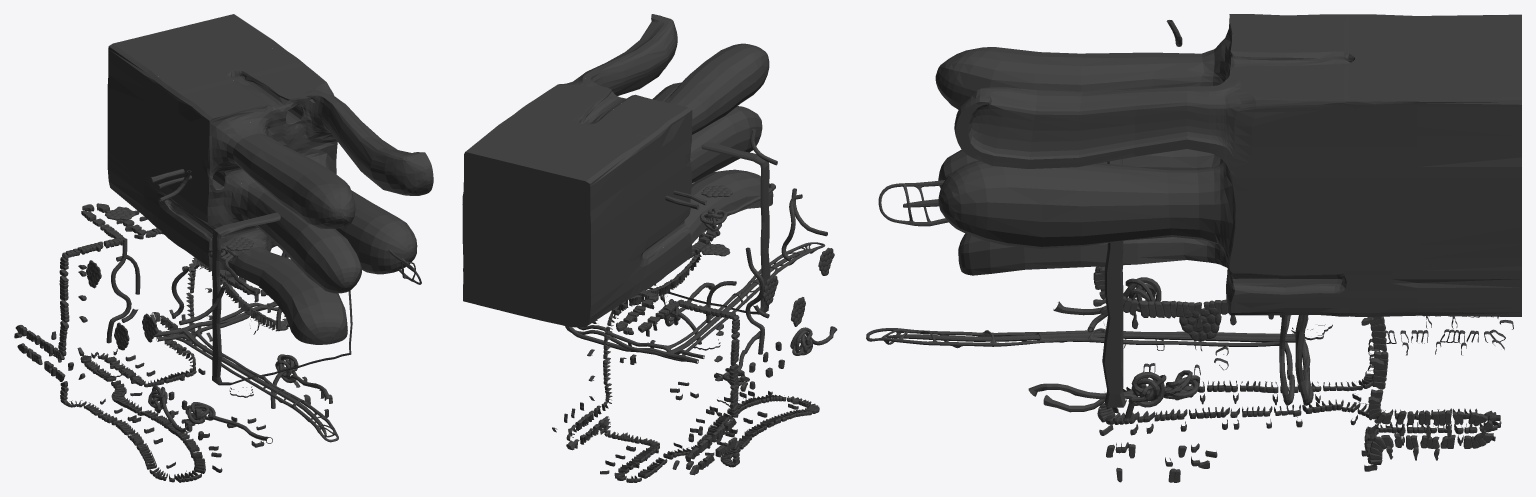
Rendered from sharedassets79.glb.
3 views of the same model, side by side, from view 1: azimuth 30°, elevation 25°; view 2: azimuth 150°, elevation 25°; view 3: azimuth 270°, elevation 25° (orthographic). The views are drawn at different scales.
Visible parts, largest first — view 1: 0004_Intestinal villi__302744, 0002_Mucosa__302742, 0003_Submucosa__302743, 0013_Absorptive cells__302753, 0017_Duodenal glands__302760, 0005_Muscularis mucosae__302745, 0001_Intestinal glands _crypts___302741, 0011_Goblet cells__302755, 0016_Mucosa-associated lymphoid tissue _MALT_, 0006_Capillaries__302747, 0009_Arteries__302750, 0000_Lamina propria__302740 (+5 smaller); view 2: 0003_Submucosa__302743, 0002_Mucosa__302742, 0004_Intestinal villi__302744, 0013_Absorptive cells__302753, 0017_Duodenal glands__302760, 0005_Muscularis mucosae__302745, 0011_Goblet cells__302755, 0016_Mucosa-associated lymphoid tissue _MALT_, 0006_Capillaries__302747, 0001_Intestinal glands _crypts___302741, 0000_Lamina propria__302740, 0009_Arteries__302750 (+6 smaller); view 3: 0002_Mucosa__302742, 0004_Intestinal villi__302744, 0003_Submucosa__302743, 0000_Lamina propria__302740, 0013_Absorptive cells__302753, 0006_Capillaries__302747, 0017_Duodenal glands__302760, 0001_Intestinal glands _crypts___302741, 0005_Muscularis mucosae__302745, 0011_Goblet cells__302755, 0014_Lacteal__302758, 0012_Enteroendocrine cells__302754 (+3 smaller).
Boxes of the visible parts, <box> form: 0004_Intestinal villi__302744: <box>220,95,433,344</box>; 0002_Mucosa__302742: <box>153,46,337,269</box>; 0003_Submucosa__302743: <box>107,14,280,224</box>; 0013_Absorptive cells__302753: <box>14,203,289,482</box>; 0017_Duodenal glands__302760: <box>148,245,331,443</box>; 0005_Muscularis mucosae__302745: <box>212,212,352,385</box>; 0001_Intestinal glands _crypts___302741: <box>164,70,302,239</box>; 0011_Goblet cells__302755: <box>34,204,270,478</box>; 0016_Mucosa-associated lymphoid tissue _MALT_: <box>86,206,259,397</box>; 0006_Capillaries__302747: <box>176,249,421,442</box>; 0009_Arteries__302750: <box>106,238,289,408</box>; 0000_Lamina propria__302740: <box>319,93,424,158</box>; 0003_Submucosa__302743: <box>462,118,636,327</box>; 0002_Mucosa__302742: <box>508,78,692,295</box>; 0004_Intestinal villi__302744: <box>590,14,773,243</box>; 0013_Absorptive cells__302753: <box>566,225,819,482</box>; 0017_Duodenal glands__302760: <box>662,183,837,385</box>; 0005_Muscularis mucosae__302745: <box>649,142,770,314</box>; 0011_Goblet cells__302755: <box>552,284,801,474</box>; 0016_Mucosa-associated lymphoid tissue _MALT_: <box>614,185,834,406</box>; 0006_Capillaries__302747: <box>670,242,825,355</box>; 0001_Intestinal glands _crypts___302741: <box>577,91,688,259</box>; 0000_Lamina propria__302740: <box>574,14,672,80</box>; 0009_Arteries__302750: <box>673,188,827,354</box>; 0002_Mucosa__302742: <box>1219,14,1391,316</box>; 0004_Intestinal villi__302744: <box>935,42,1221,275</box>; 0003_Submucosa__302743: <box>1391,14,1521,316</box>; 0000_Lamina propria__302740: <box>955,84,1220,168</box>; 0013_Absorptive cells__302753: <box>1093,266,1513,464</box>; 0006_Capillaries__302747: <box>866,180,1291,348</box>; 0017_Duodenal glands__302760: <box>1028,277,1199,412</box>; 0001_Intestinal glands _crypts___302741: <box>1231,51,1354,292</box>; 0005_Muscularis mucosae__302745: <box>1102,159,1127,407</box>; 0011_Goblet cells__302755: <box>1093,267,1504,471</box>; 0014_Lacteal__302758: <box>886,199,1289,342</box>; 0012_Enteroendocrine cells__302754: <box>1106,339,1228,482</box>.
Bounding box in the file's own units: 0.1769 × 0.2328 × 0.3079.
1 material, 1 textured.
